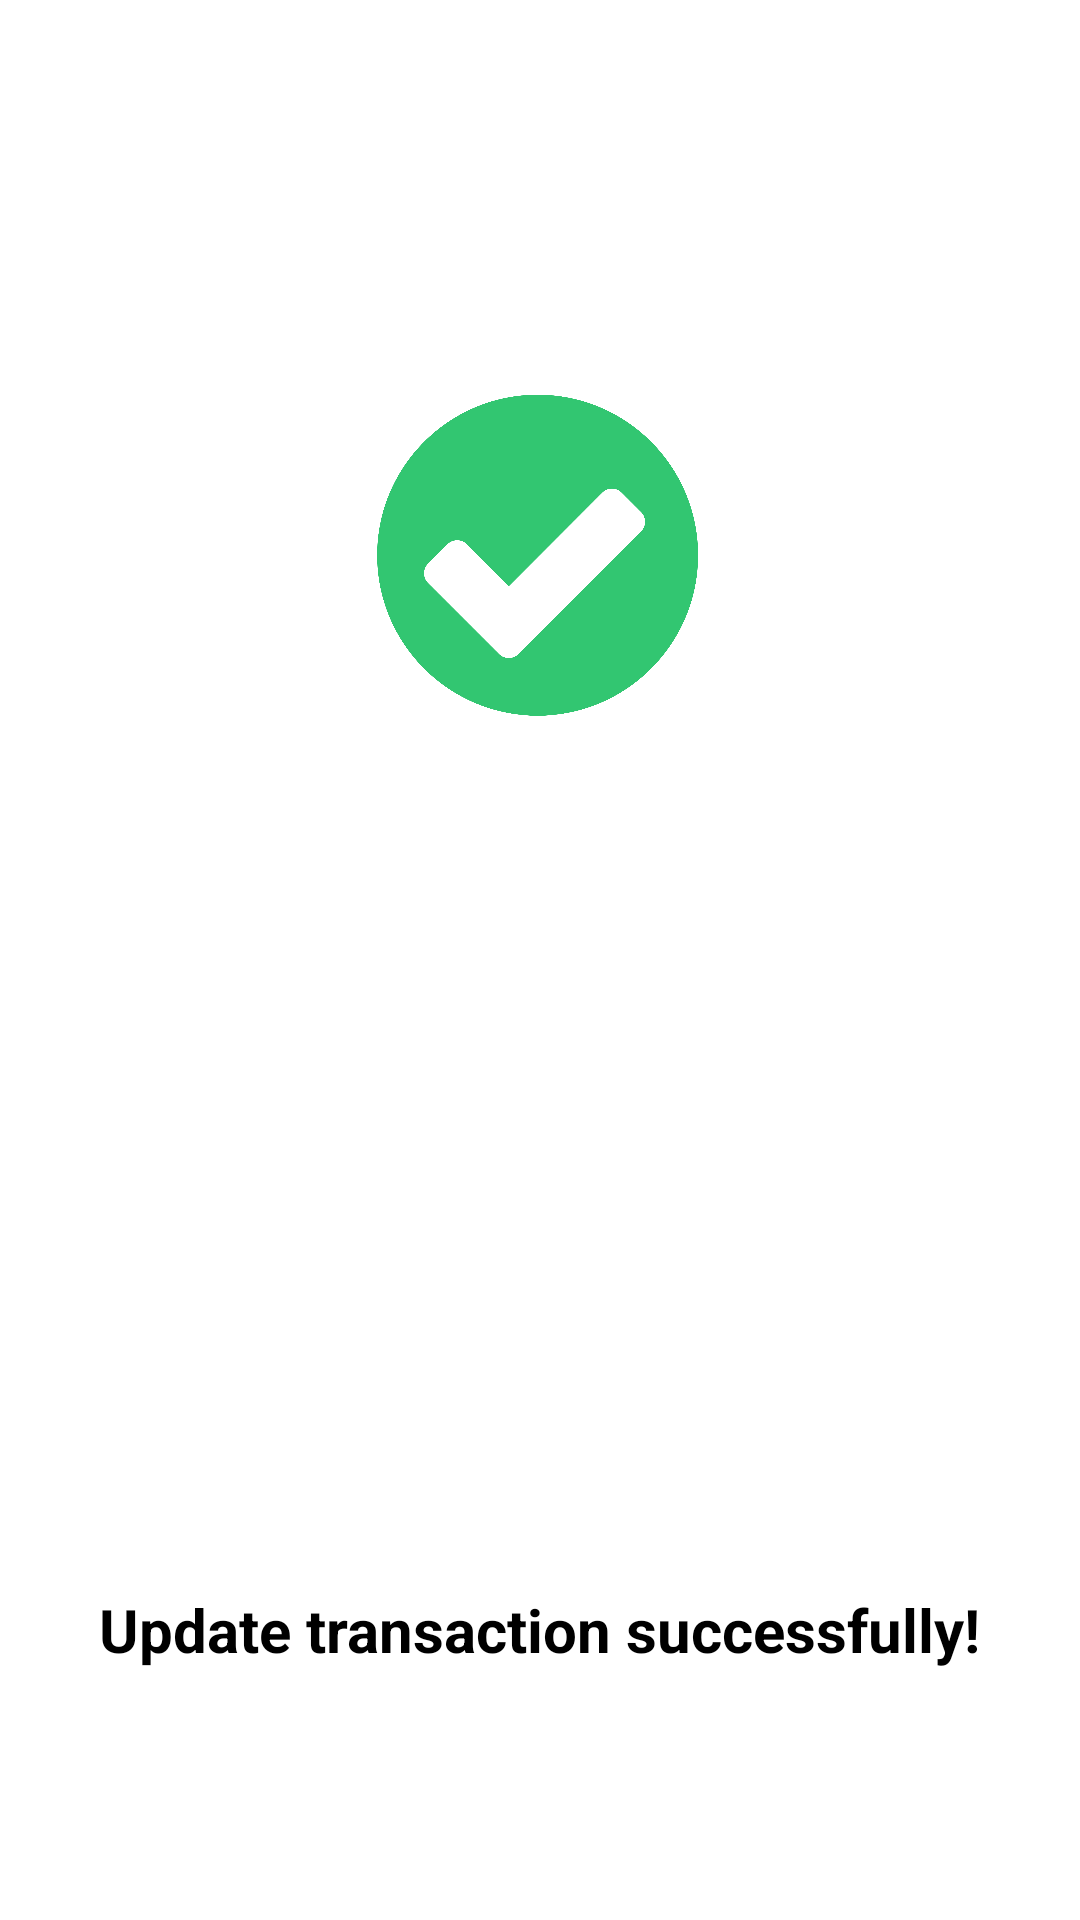

Named icons in this screenshot (1080*1920) and their centers, point (x, y):
check: point (537, 555)
